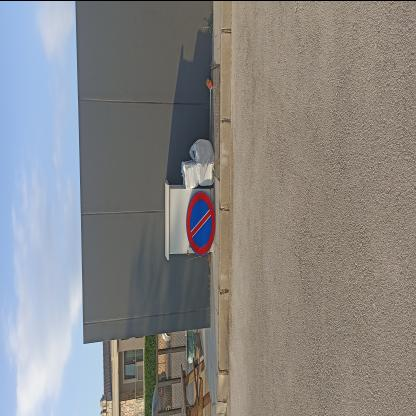No Waiting: (187, 191, 217, 257)
